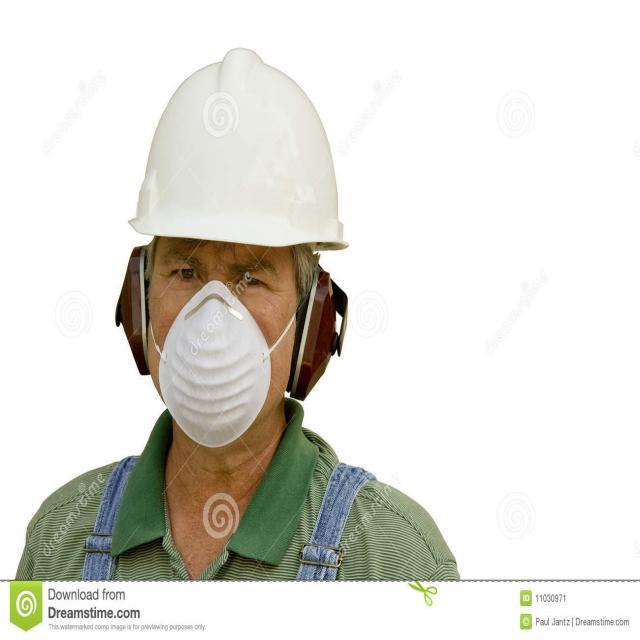Helmet: (105, 36, 364, 262)
